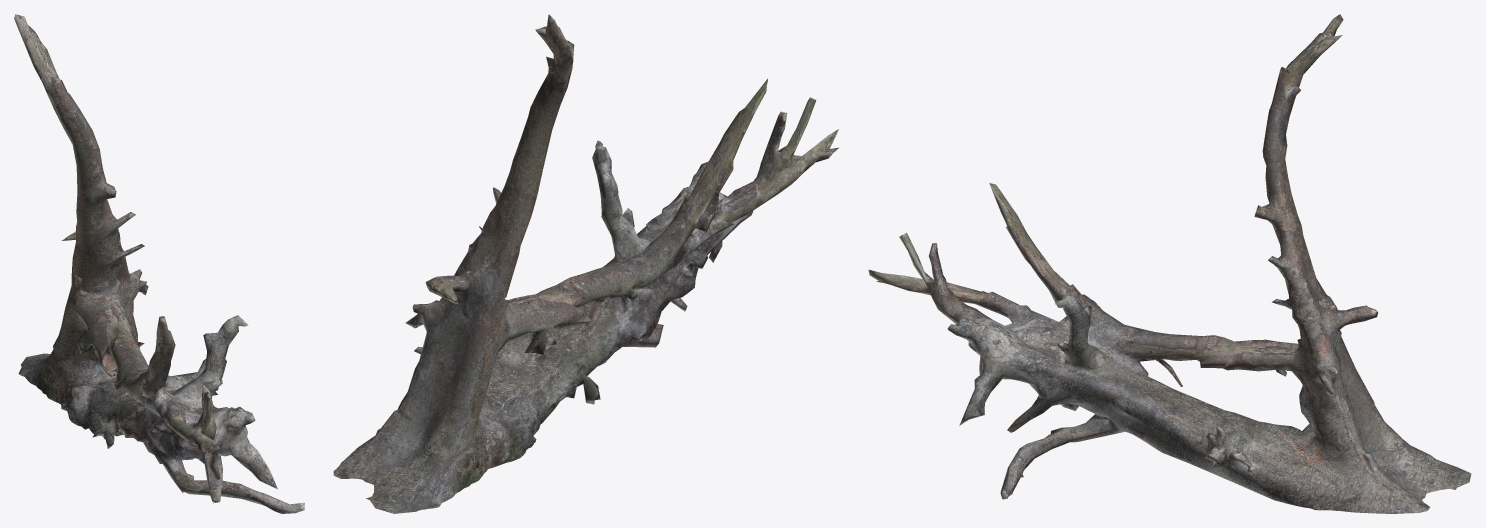
File: sm_TreeStump_06_05.fbx
3 views of the same model, side by side, from view 1: azimuth 30°, elevation 25°; view 2: azimuth 150°, elevation 25°; view 3: azimuth 270°, elevation 25° (orthographic). The views are drawn at different scales.
Parts seen in each view (by area): view 1: sm_TreeStump_06_05_LOD0; view 2: sm_TreeStump_06_05_LOD0; view 3: sm_TreeStump_06_05_LOD0.
Boxes of the visible parts, left/top/right/bottom form: sm_TreeStump_06_05_LOD0: left=14, top=14, right=304, bottom=513; sm_TreeStump_06_05_LOD0: left=333, top=14, right=838, bottom=513; sm_TreeStump_06_05_LOD0: left=868, top=14, right=1471, bottom=513.
Size of the model in its own units: 51.32 by 135 by 104.
